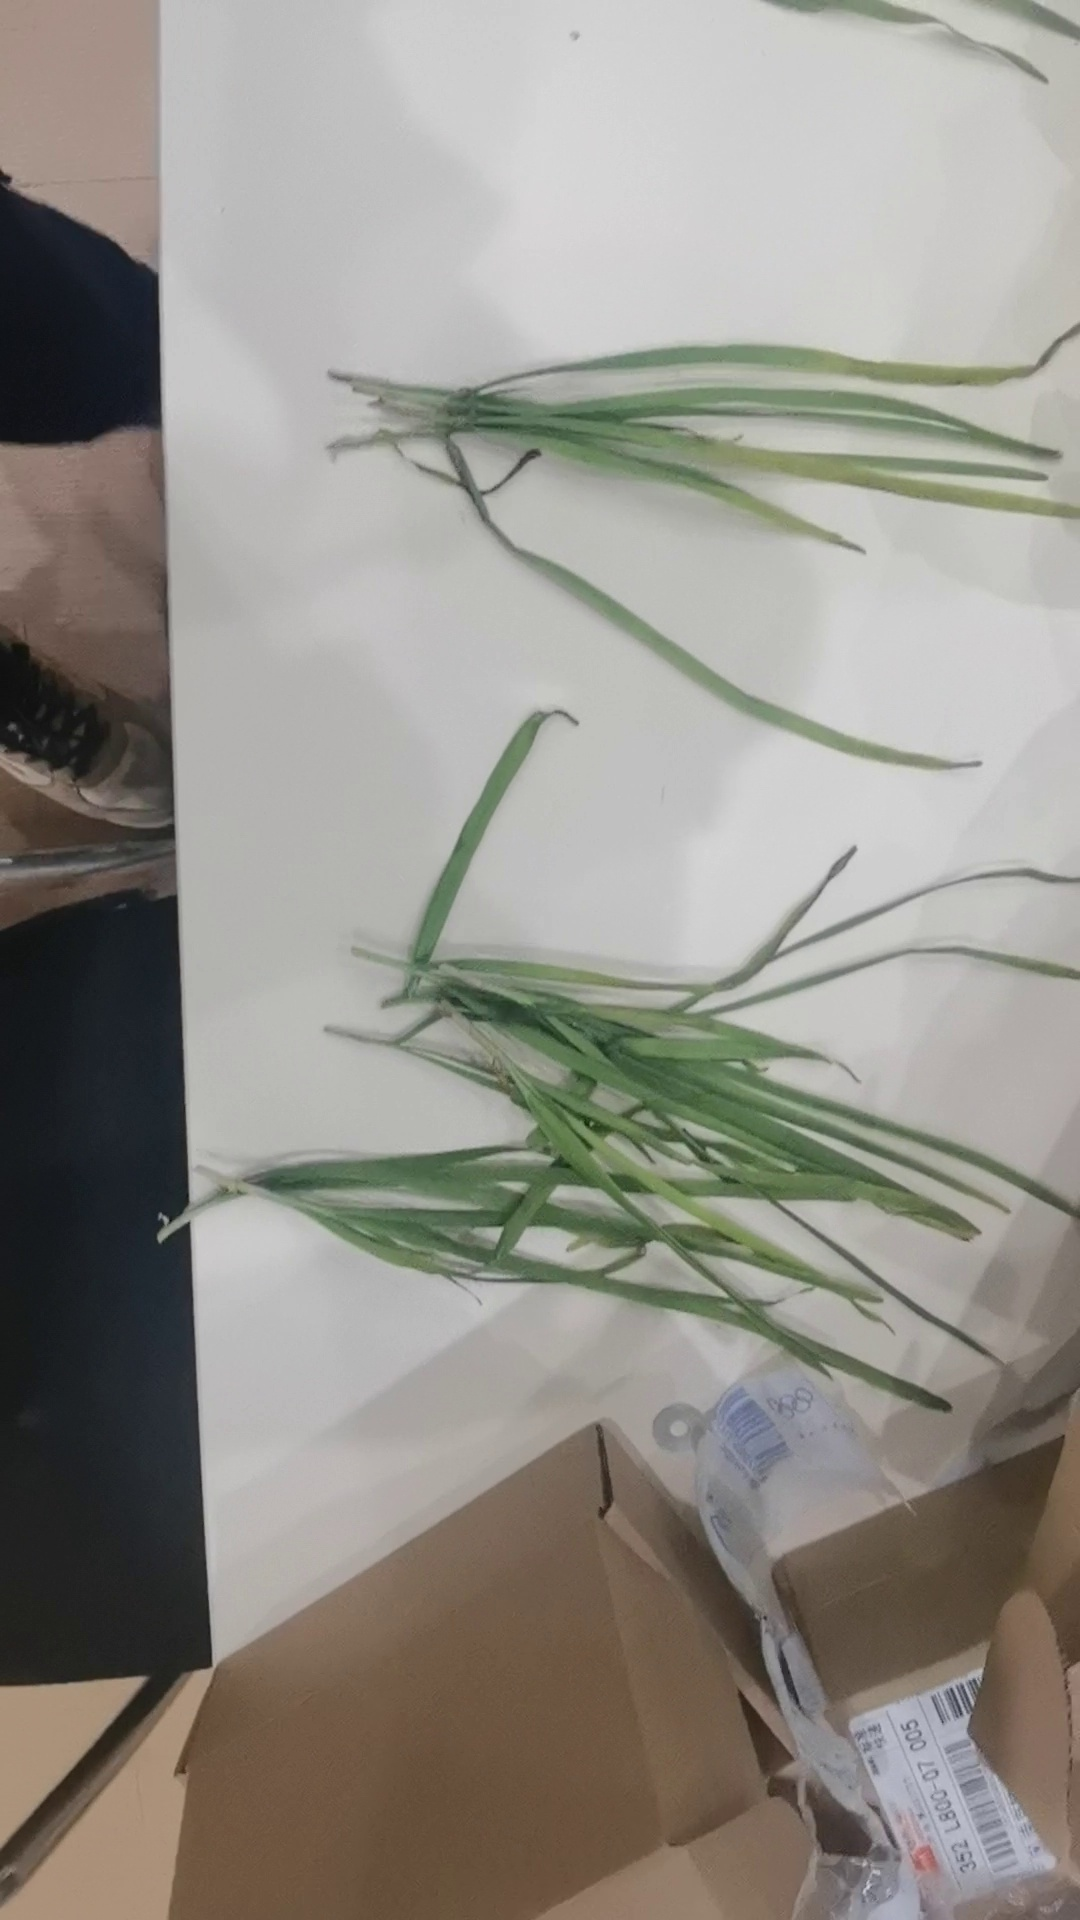chives: (169, 723, 1080, 1435), (280, 343, 1080, 829)
